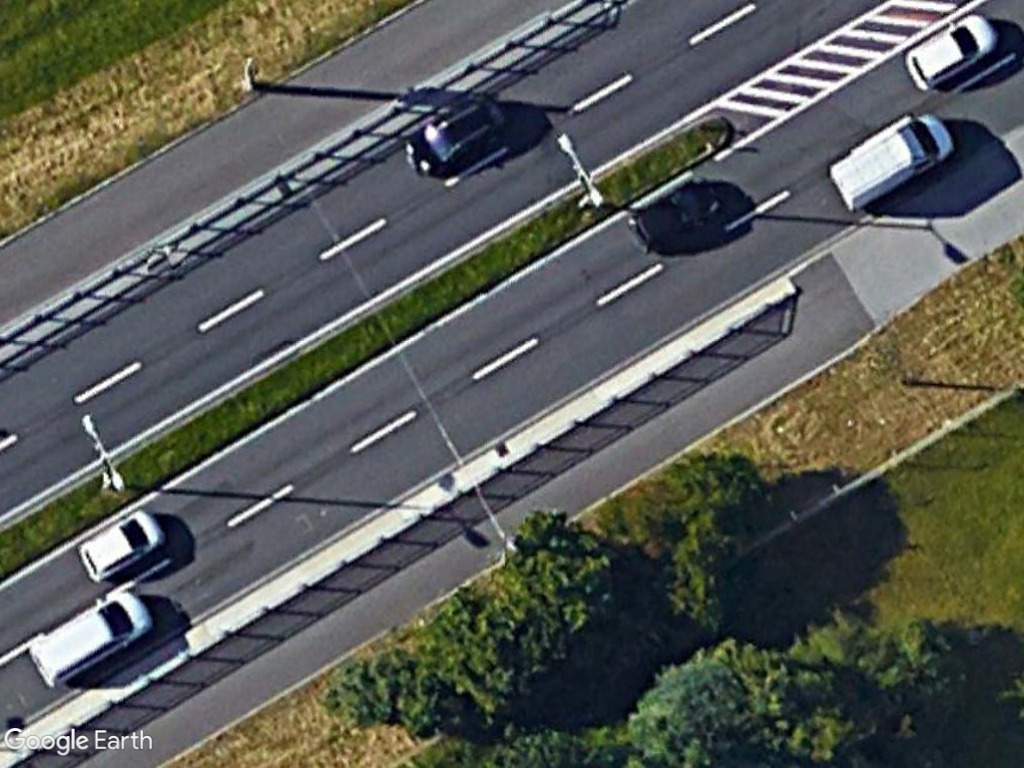car: (400, 90, 508, 179), (624, 170, 725, 251), (903, 8, 1000, 90), (77, 506, 169, 585)
van: (825, 110, 954, 213), (28, 585, 153, 691)
